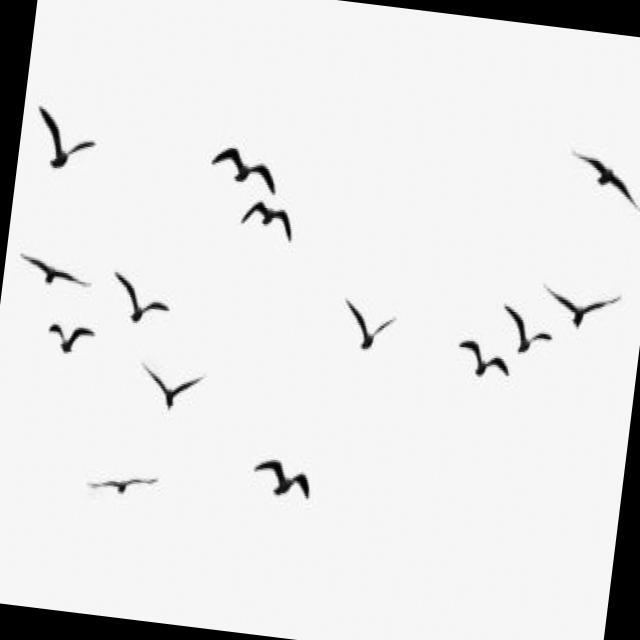bird: (562, 141, 640, 219), (535, 274, 627, 339), (29, 100, 102, 176), (135, 358, 213, 420), (205, 139, 284, 198), (108, 267, 176, 330), (495, 298, 560, 362), (336, 296, 401, 359), (451, 328, 519, 387), (15, 244, 98, 292), (248, 453, 317, 505), (236, 194, 300, 246), (82, 463, 160, 504), (43, 313, 99, 362)
